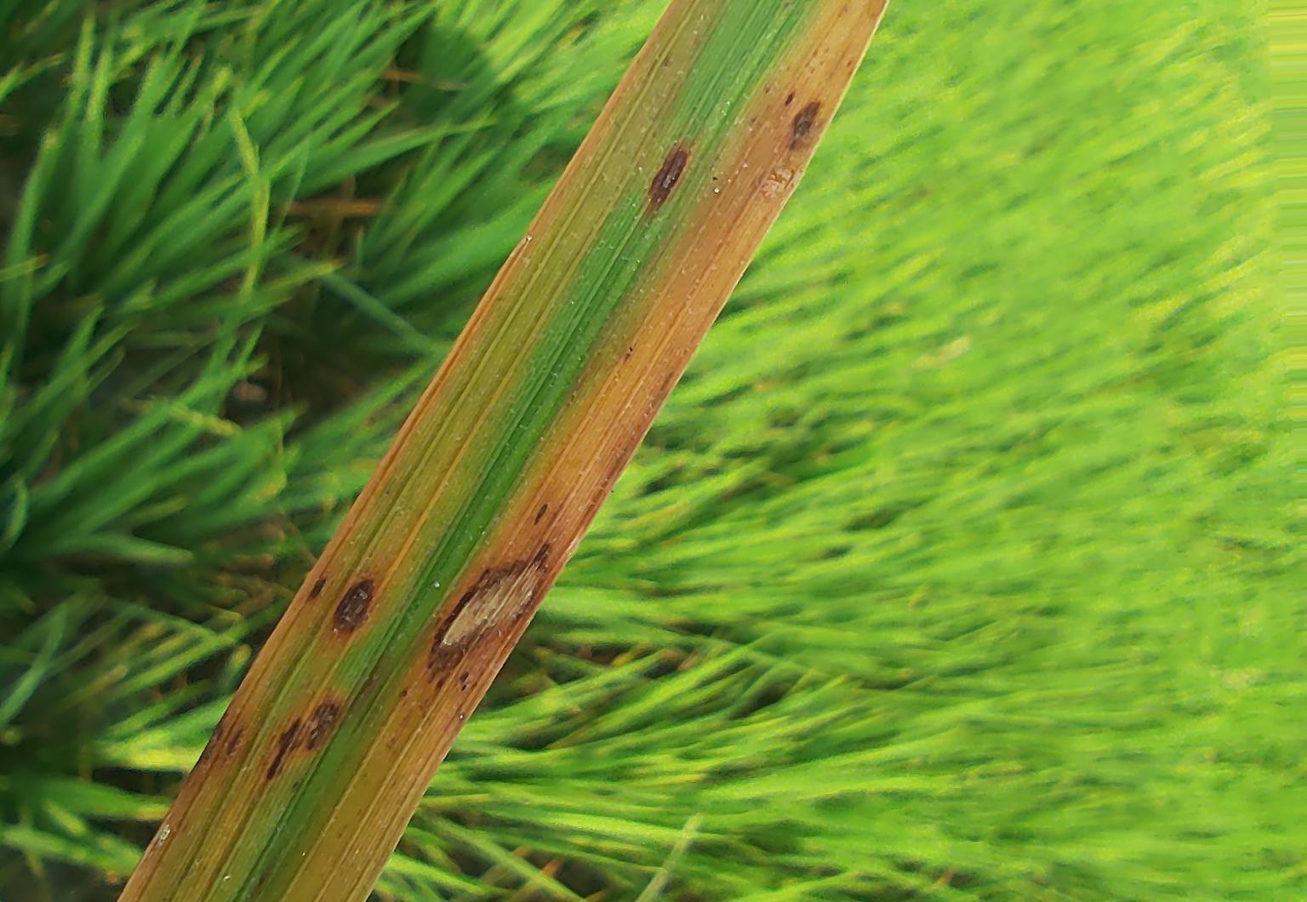LEAF BLAST: (428, 543, 555, 681), (649, 146, 689, 209), (334, 579, 373, 631), (306, 703, 339, 749), (791, 101, 819, 147), (197, 723, 220, 768)
